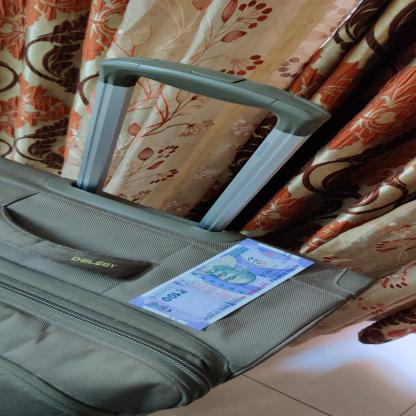New100Front: (128, 238, 316, 330)
